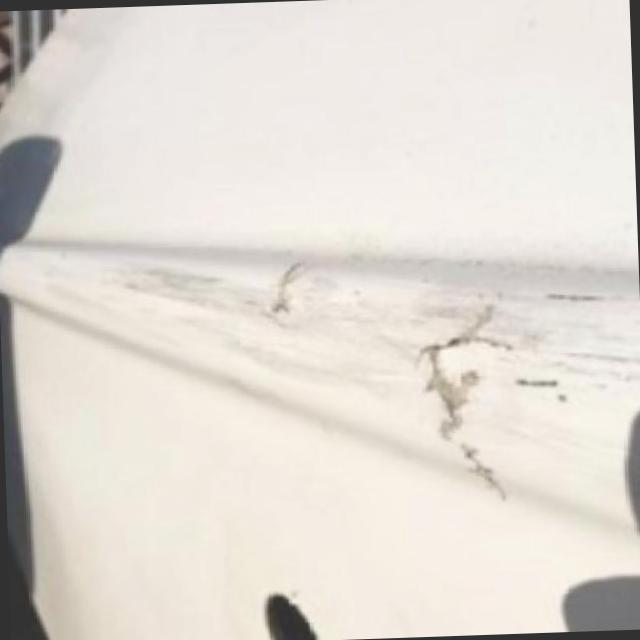crack: (422, 308, 501, 496), (272, 260, 304, 306)
